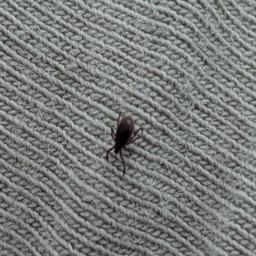Ixodes scapularis: (104, 112, 144, 174)
